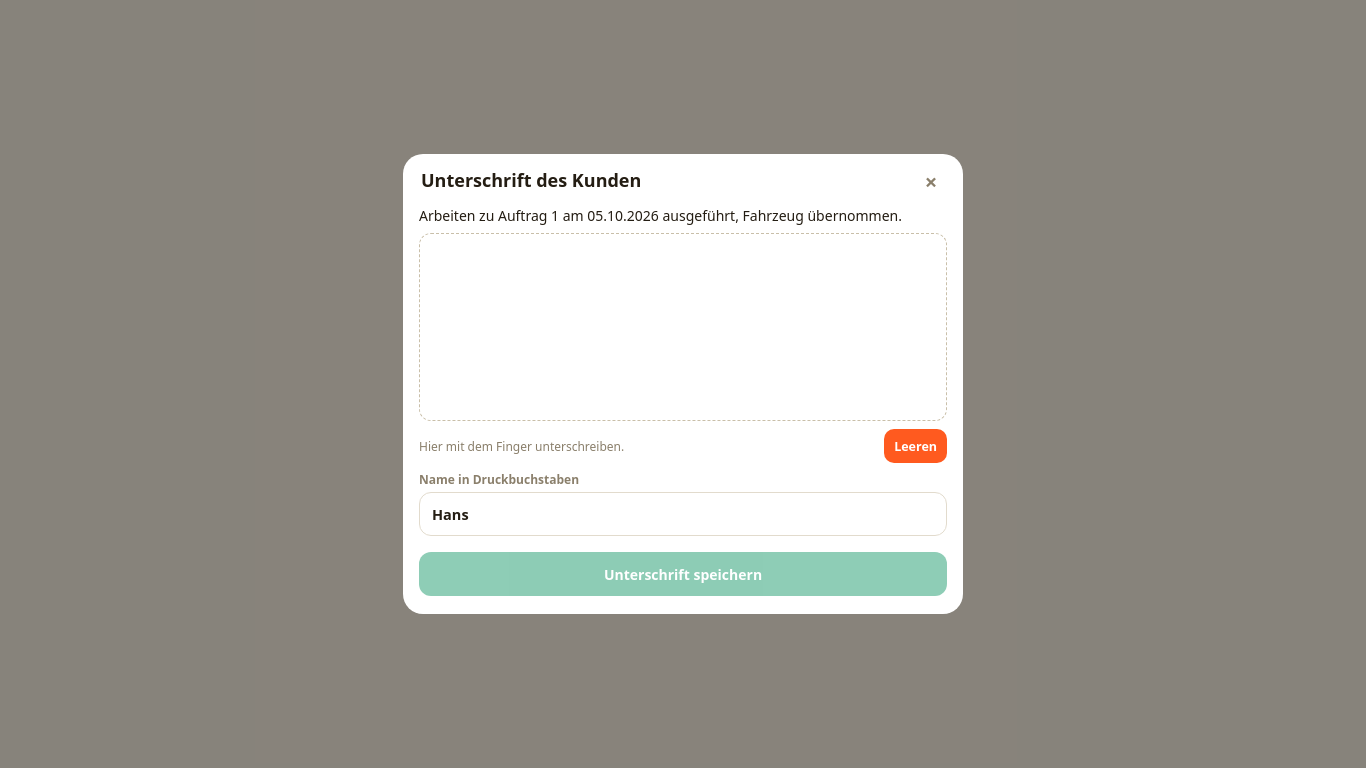
Test: UnterschriftBlatt › ohne Netz bleibt das Blatt offen und sagt es
Press the mouse on the drawing named "Hier mit dem Finger unterschreiben" at (683, 327), box [419,233,947,421]
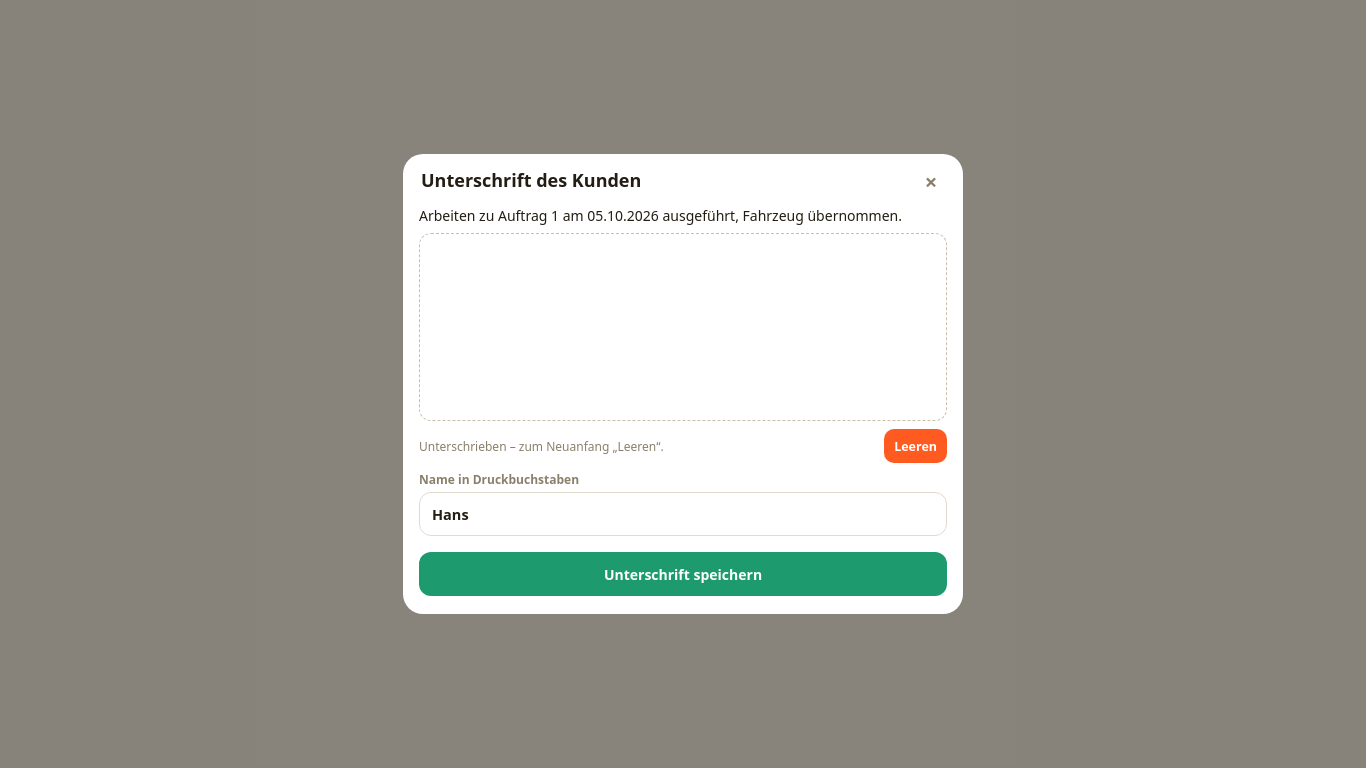
Click the button "Unterschrift speichern" at (683, 574), box [419,552,947,596]
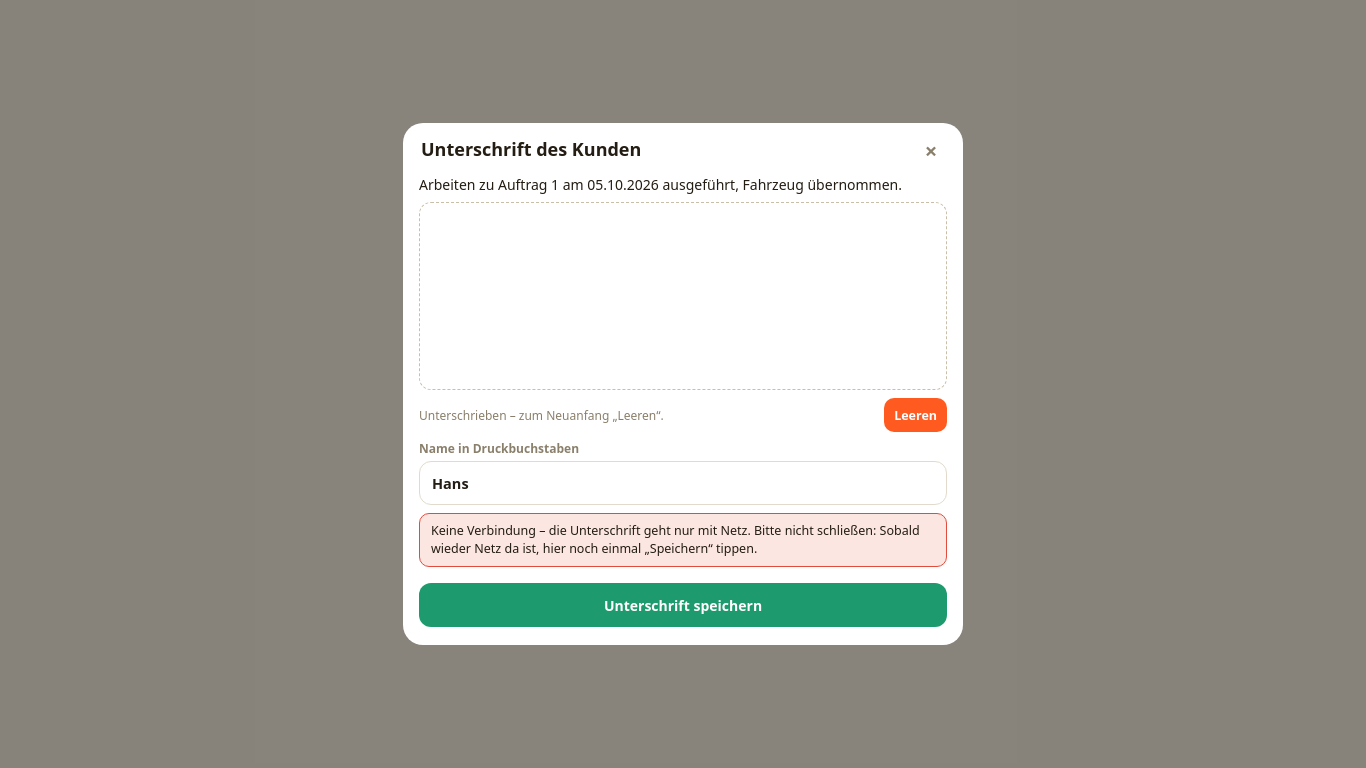
Check: the text "die Unterschrift geht nur mit Netz" is shown, box [431,522,920,557]
